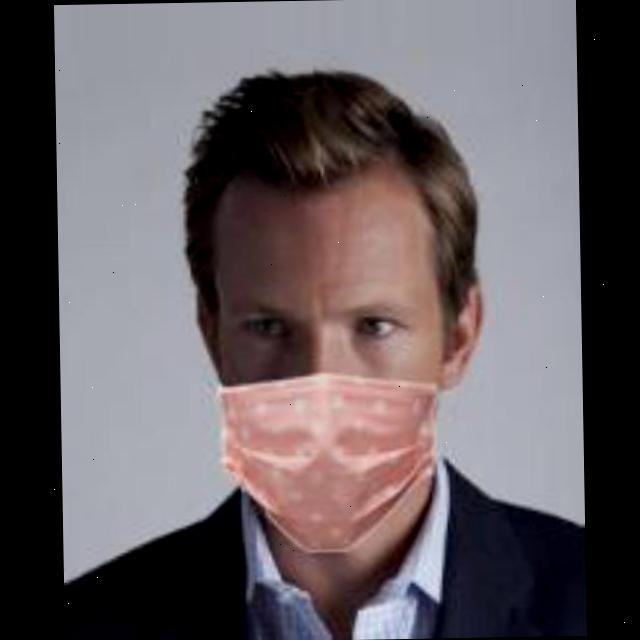suspicion: (207, 112, 476, 571)
